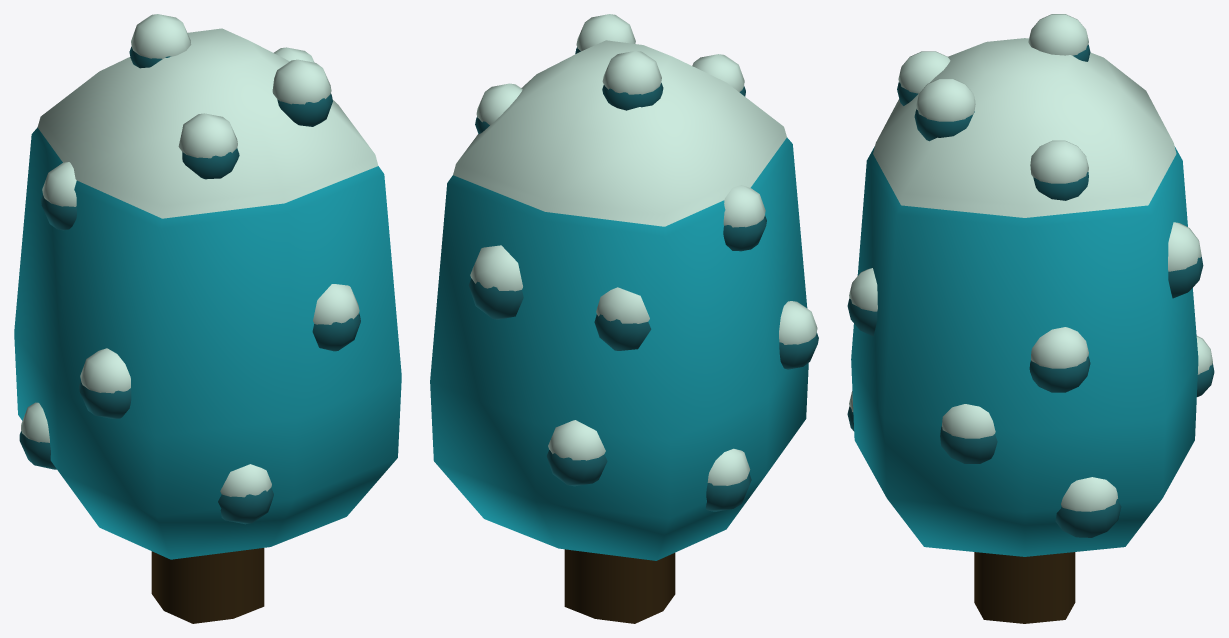
The model's file is winter-tree-apple-tall-v2.glb.
3 renders of one model, left to right at view 1: azimuth 30°, elevation 25°; view 2: azimuth 150°, elevation 25°; view 3: azimuth 270°, elevation 25°, orthographic. The views are drawn at different scales.
Visible parts, largest first — view 1: WinterTreeAppleTall_v2; view 2: WinterTreeAppleTall_v2; view 3: WinterTreeAppleTall_v2.
Part boxes in pixels (box(x1,y1,x2,y2)): WinterTreeAppleTall_v2: box(14, 14, 401, 623); WinterTreeAppleTall_v2: box(430, 14, 818, 623); WinterTreeAppleTall_v2: box(847, 14, 1214, 623).
Bounding box in the file's own units: 181 × 308 × 179.
1 material, 1 textured.
